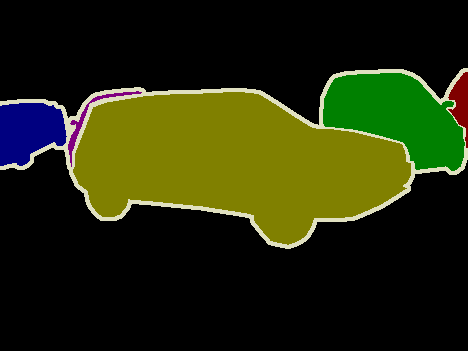car: (72, 88, 413, 245), (324, 69, 466, 172), (68, 83, 155, 169), (1, 99, 67, 168), (448, 69, 468, 146)
